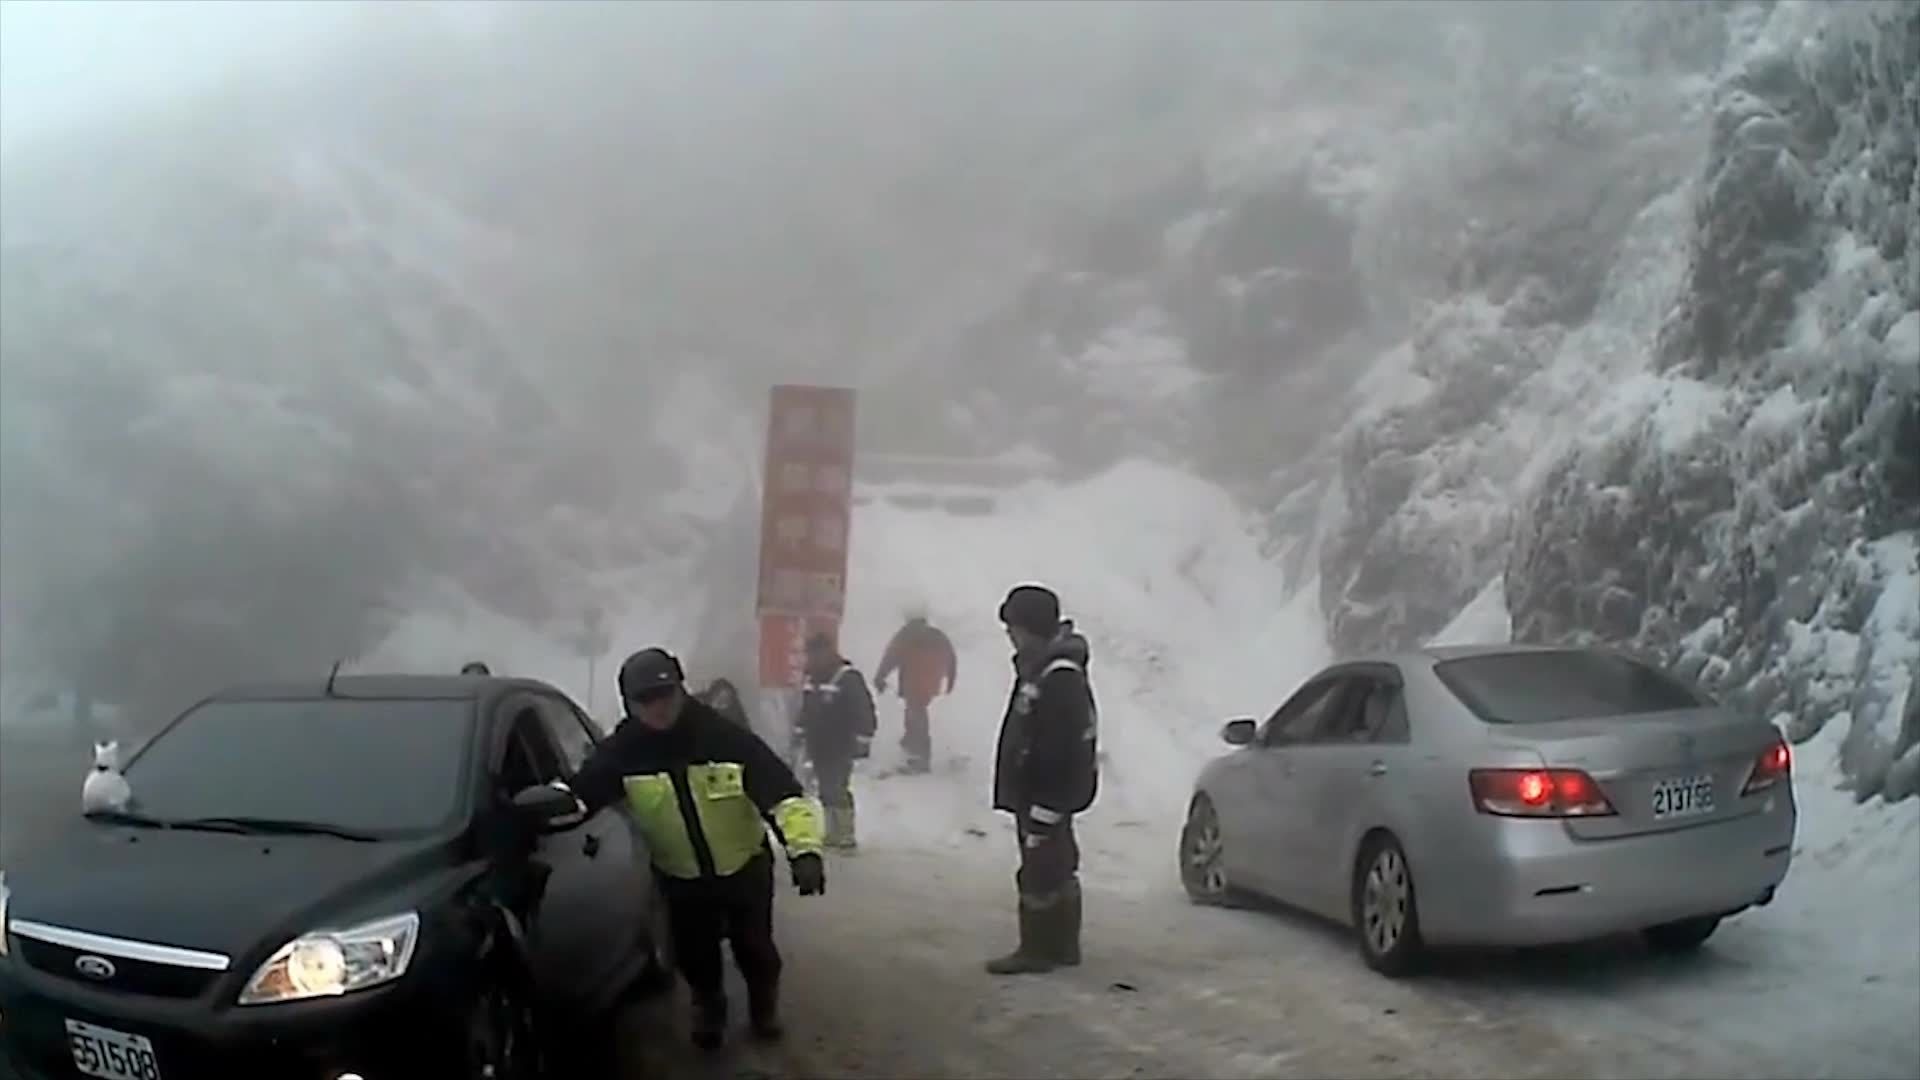pedestrian: (526, 647, 827, 1046), (970, 586, 1101, 973), (669, 678, 773, 891), (790, 633, 874, 859), (872, 597, 962, 774)
vehicle: (0, 671, 706, 1080), (1166, 641, 1794, 980)
